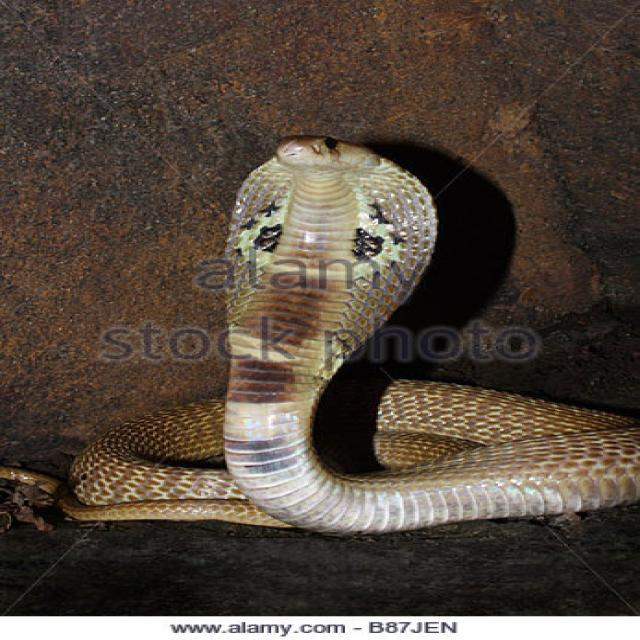Snake: (46, 126, 636, 549)
